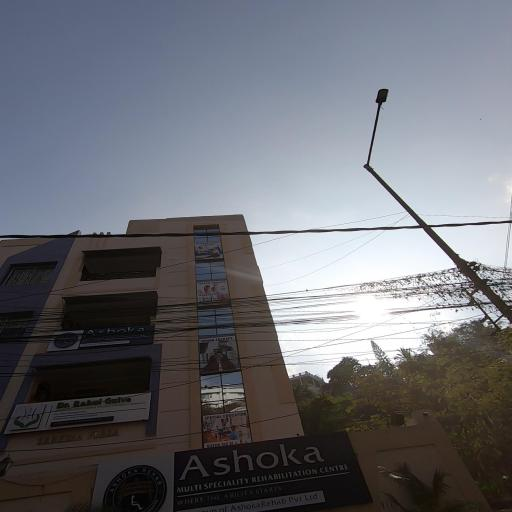off: (348, 68, 434, 224)
